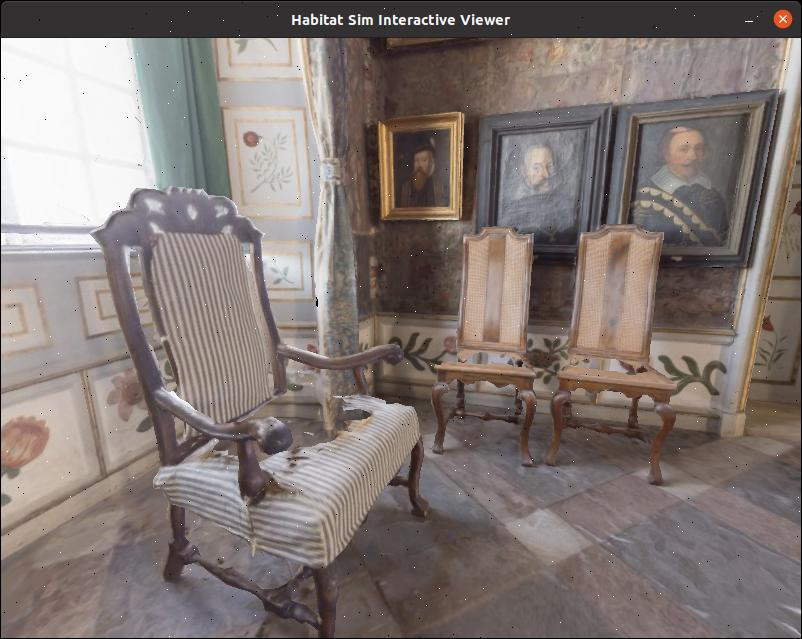chair: (73, 169, 446, 639), (526, 209, 699, 492), (439, 219, 542, 484)
